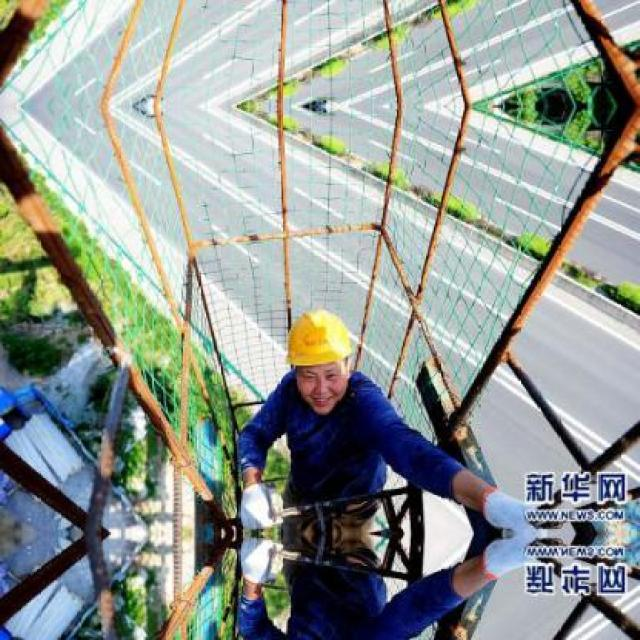helmet: (280, 297, 360, 408)
